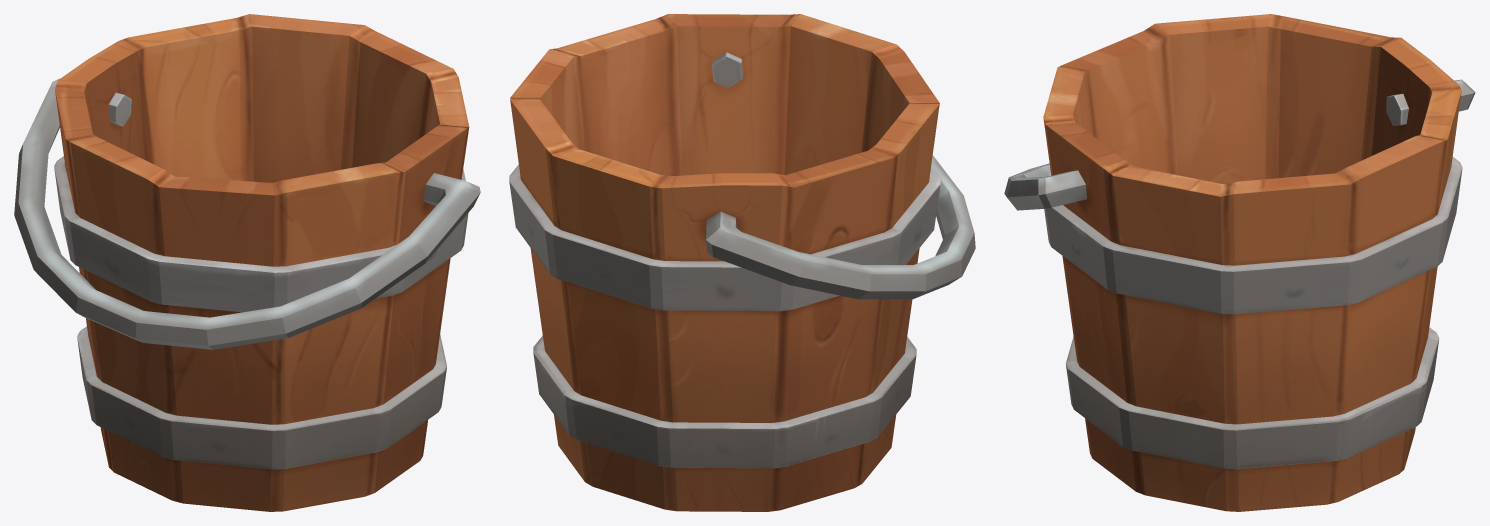
File: bucket.gltf
3 renders of one model, left to right at view 1: azimuth 30°, elevation 25°; view 2: azimuth 150°, elevation 25°; view 3: azimuth 270°, elevation 25°, orthographic.
Parts seen in each view (by area): view 1: Object_2; view 2: Object_2; view 3: Object_2.
Part boxes in pixels (left/top/right/bottom): Object_2: left=14, top=14, right=480, bottom=511; Object_2: left=509, top=14, right=975, bottom=511; Object_2: left=1004, top=14, right=1475, bottom=511.
Bounding box in the file's own units: 0.4131 × 0.3391 × 0.4244.
1 material, 1 textured.
